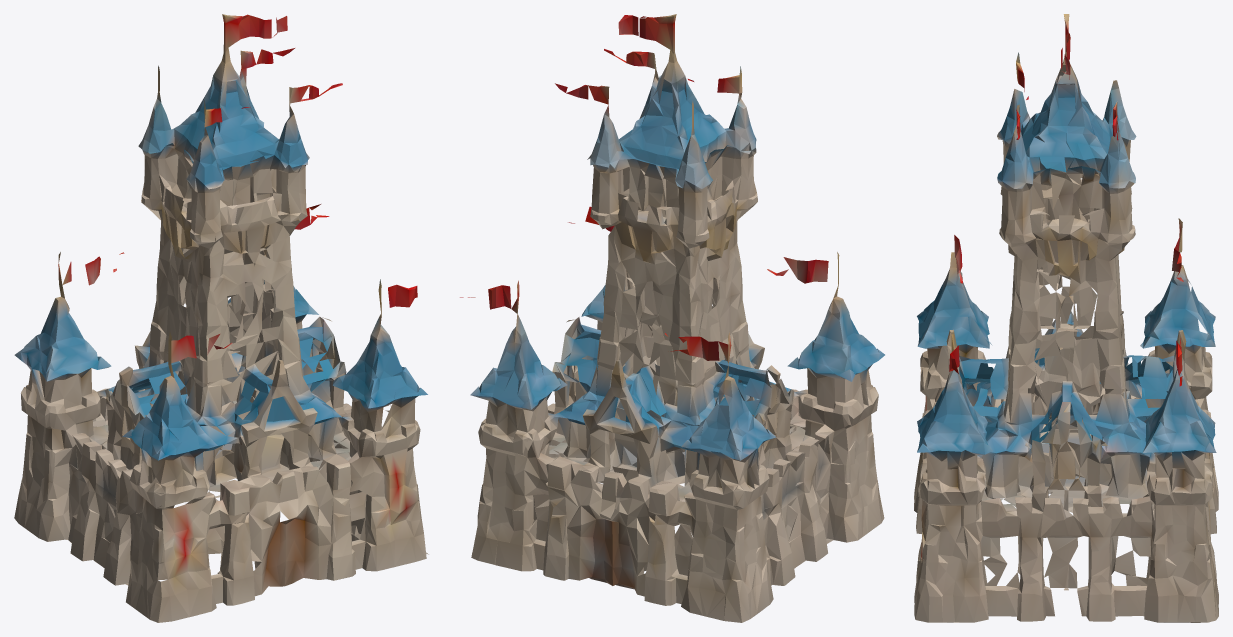
Rendered from building_royal_citadel_lod2.glb.
The picture shows the model from 3 angles, left to right: view 1: azimuth 30°, elevation 25°; view 2: azimuth 150°, elevation 25°; view 3: azimuth 270°, elevation 25°; orthographic projection. The views are drawn at different scales.
Parts seen in each view (by area): view 1: world; view 2: world; view 3: world.
Boxes of the visible parts, x1,y1,x2,y2 form: world: [14, 14, 428, 622]; world: [460, 14, 884, 622]; world: [914, 14, 1218, 622].
Bounding box in the file's own units: 1.13 × 1.87 × 0.9564.
